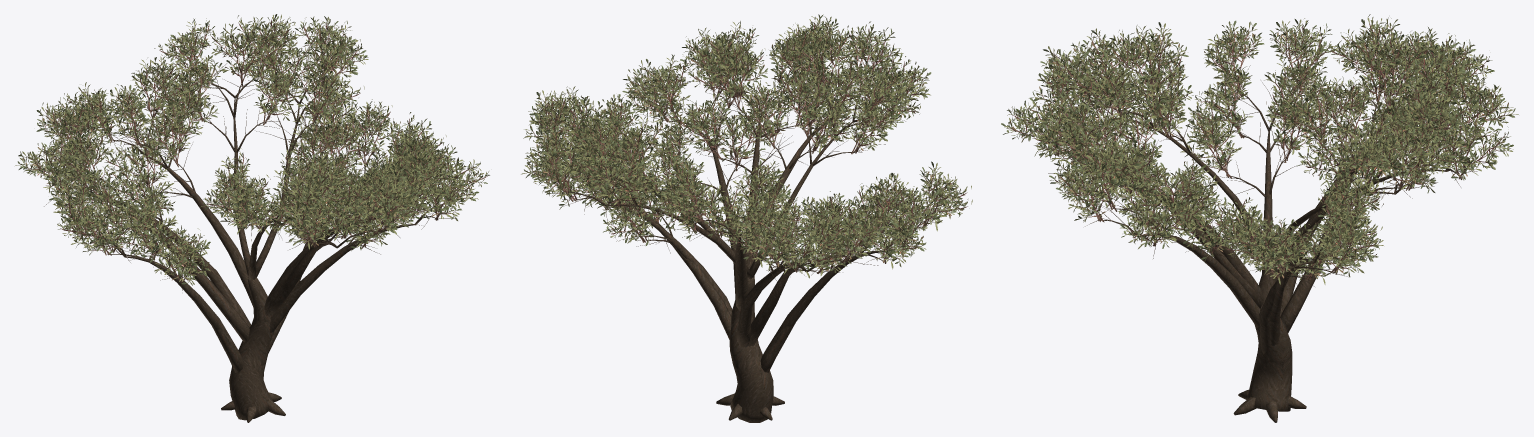
File: olive-high.glb
3 renders of one model, left to right at view 1: azimuth 30°, elevation 25°; view 2: azimuth 150°, elevation 25°; view 3: azimuth 270°, elevation 25°, orthographic. The views are drawn at different scales.
Parts seen in each view (by area): view 1: olive crown photographed shoots, olive trunk and connected boughs; view 2: olive crown photographed shoots, olive trunk and connected boughs; view 3: olive crown photographed shoots, olive trunk and connected boughs.
Part boxes in pixels (x1,y1,x2,y2): olive crown photographed shoots: (15,14,489,287); olive trunk and connected boughs: (44,56,456,422); olive crown photographed shoots: (521,14,972,278); olive trunk and connected boughs: (539,71,933,422); olive crown photographed shoots: (1001,14,1518,284); olive trunk and connected boughs: (1038,65,1484,422).
Bounding box in the file's own units: 3.34 × 2.7 × 3.5.
Materials: 2 (2 with a texture image).
